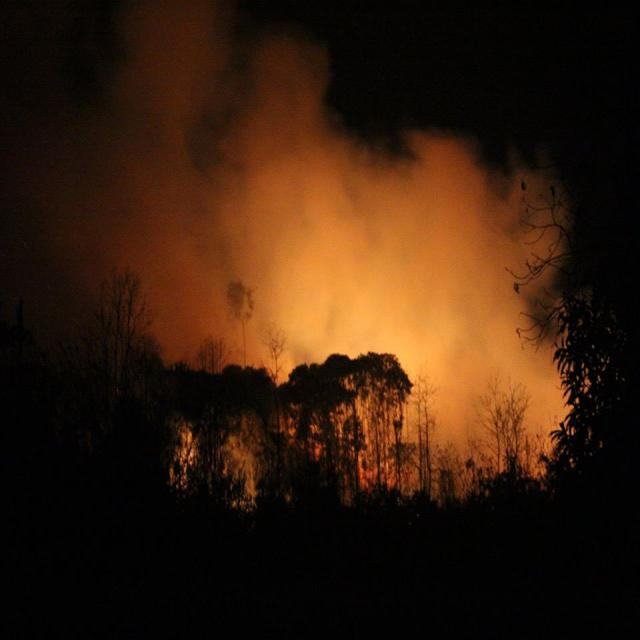Fire: (160, 410, 397, 493)
Smoke: (93, 47, 562, 433)
